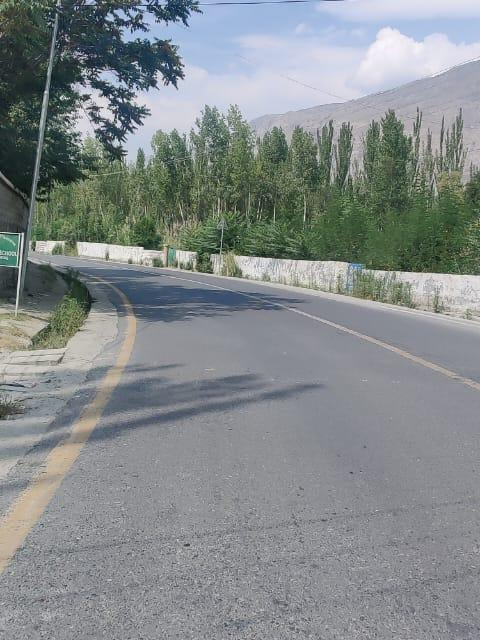left_turn: (0, 196, 350, 339)
